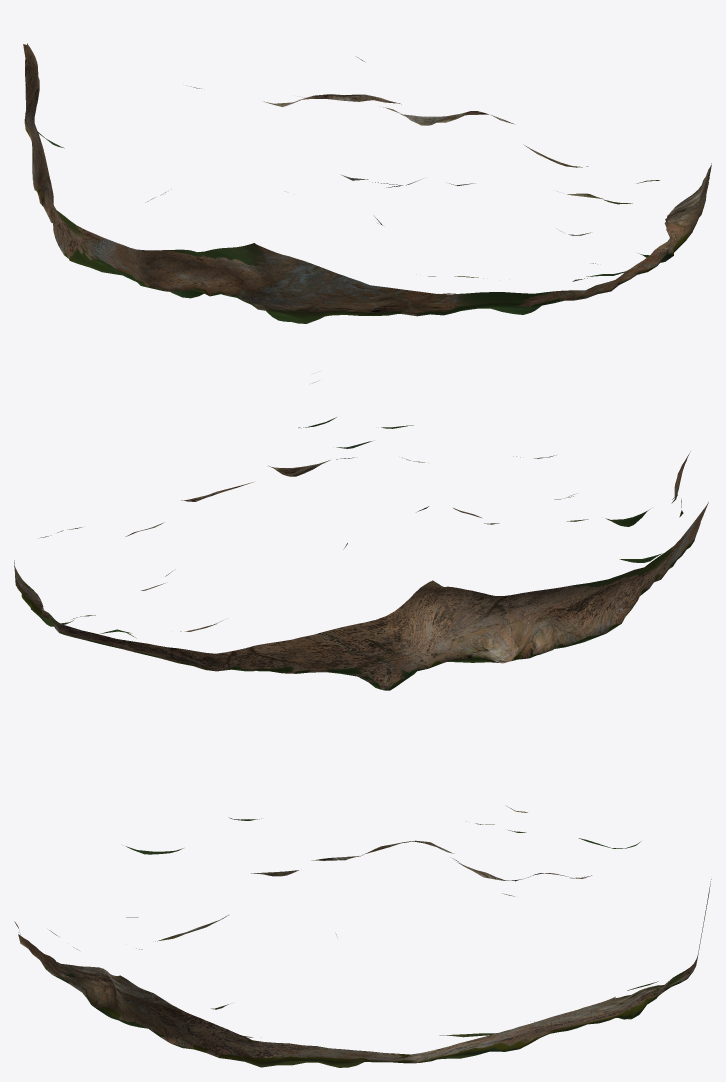
Rendered from buneya.glb.
3 views of the same model, one above another, from view 1: azimuth 30°, elevation 25°; view 2: azimuth 150°, elevation 25°; view 3: azimuth 270°, elevation 25° (orthographic). The views are drawn at different scales.
Parts seen in each view (by area): view 1: Object_2; view 2: Object_2; view 3: Object_2.
Boxes of the visible parts, bbox=[...] form: Object_2: bbox=[23, 43, 711, 323]; Object_2: bbox=[14, 373, 708, 690]; Object_2: bbox=[14, 806, 711, 1067].
Bounding box in the file's own units: 27.58 × 5.86 × 28.54.
1 material, 1 textured.
